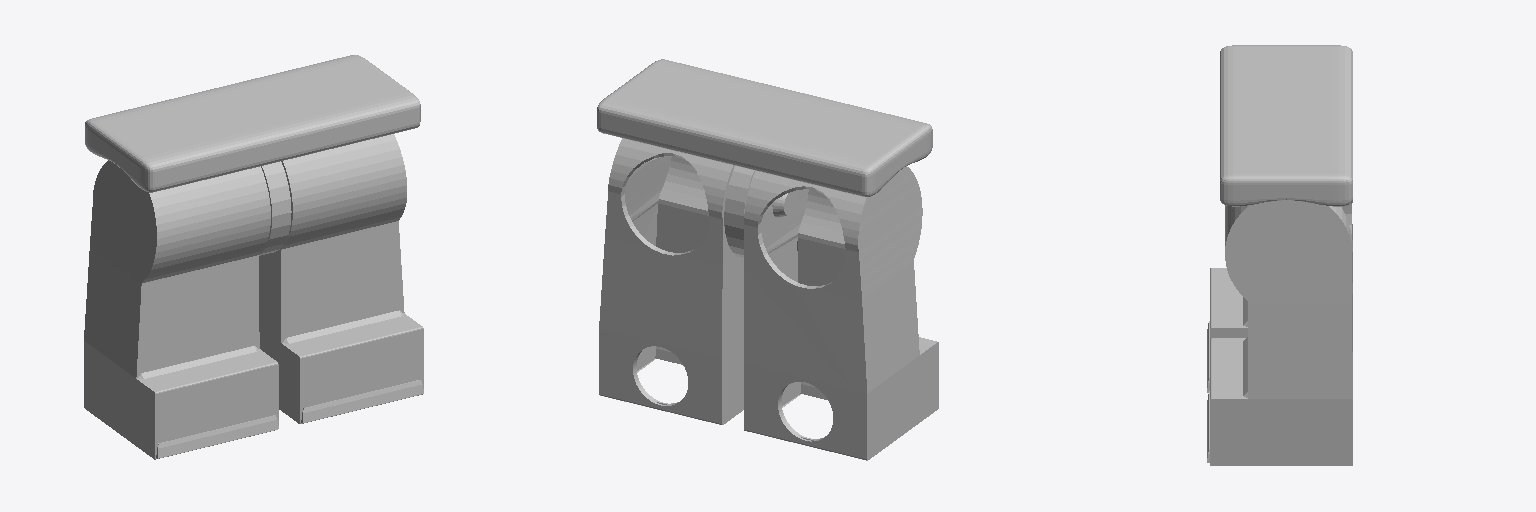
The model's file is Legs-LegoMan.obj.
3 renders of one model, left to right at view 1: azimuth 30°, elevation 25°; view 2: azimuth 150°, elevation 25°; view 3: azimuth 270°, elevation 25°, orthographic.
Visible parts, largest first — view 1: 000_Plane003, 001_Plane004, 003_Box002, 002_Cylinder002; view 2: 000_Plane003, 001_Plane004, 003_Box002, 002_Cylinder002; view 3: 001_Plane004, 003_Box002, 000_Plane003.
Part boxes in pixels (x1,y1,x2,y2): 000_Plane003: (84, 160, 278, 459); 001_Plane004: (259, 134, 423, 423); 003_Box002: (85, 55, 420, 192); 002_Cylinder002: (259, 161, 291, 255); 000_Plane003: (744, 166, 938, 460); 001_Plane004: (599, 138, 743, 424); 003_Box002: (597, 59, 932, 196); 002_Cylinder002: (724, 166, 796, 258); 001_Plane004: (1207, 200, 1352, 465); 003_Box002: (1220, 45, 1352, 206); 000_Plane003: (1207, 224, 1352, 392).
Bounding box in the file's own units: 12.01 × 12.1 × 5.51.